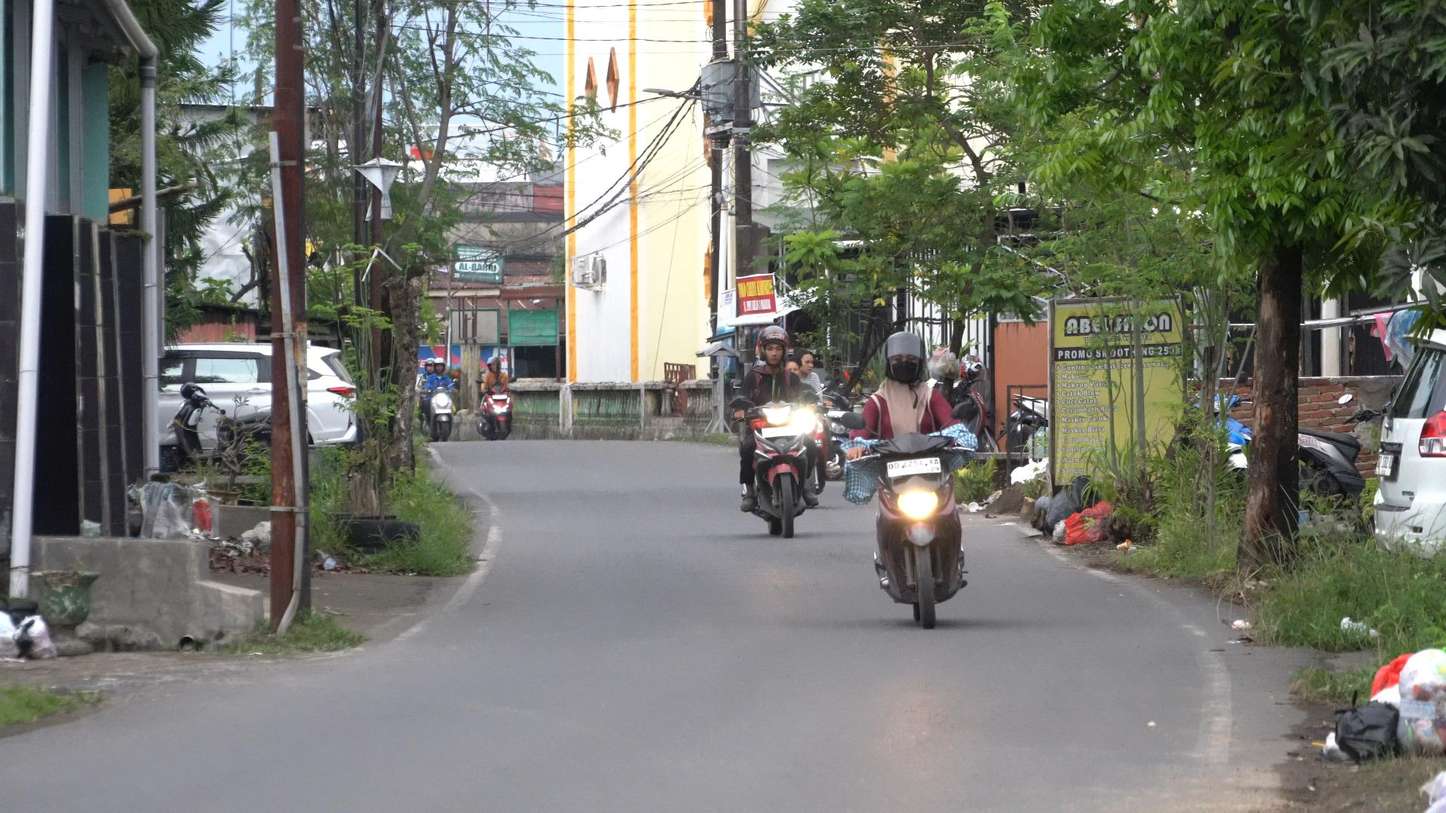number-plate: (884, 459, 947, 477)
